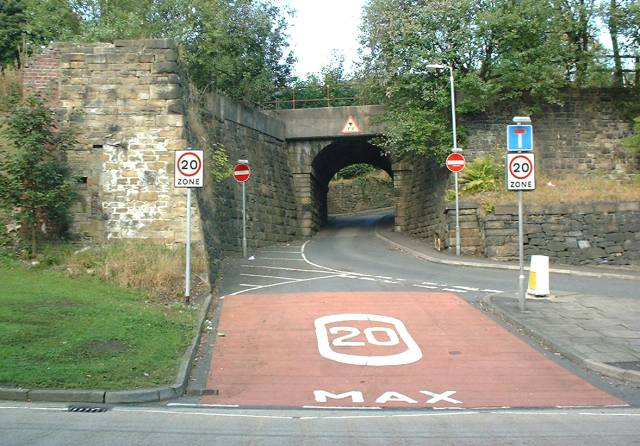No_entry: (445, 153, 466, 172), (232, 164, 251, 182)
